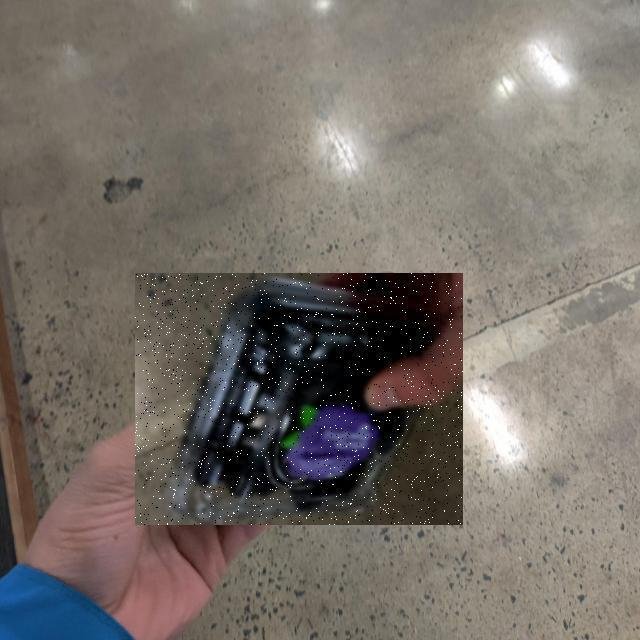Black Berries: (135, 273, 463, 525)
